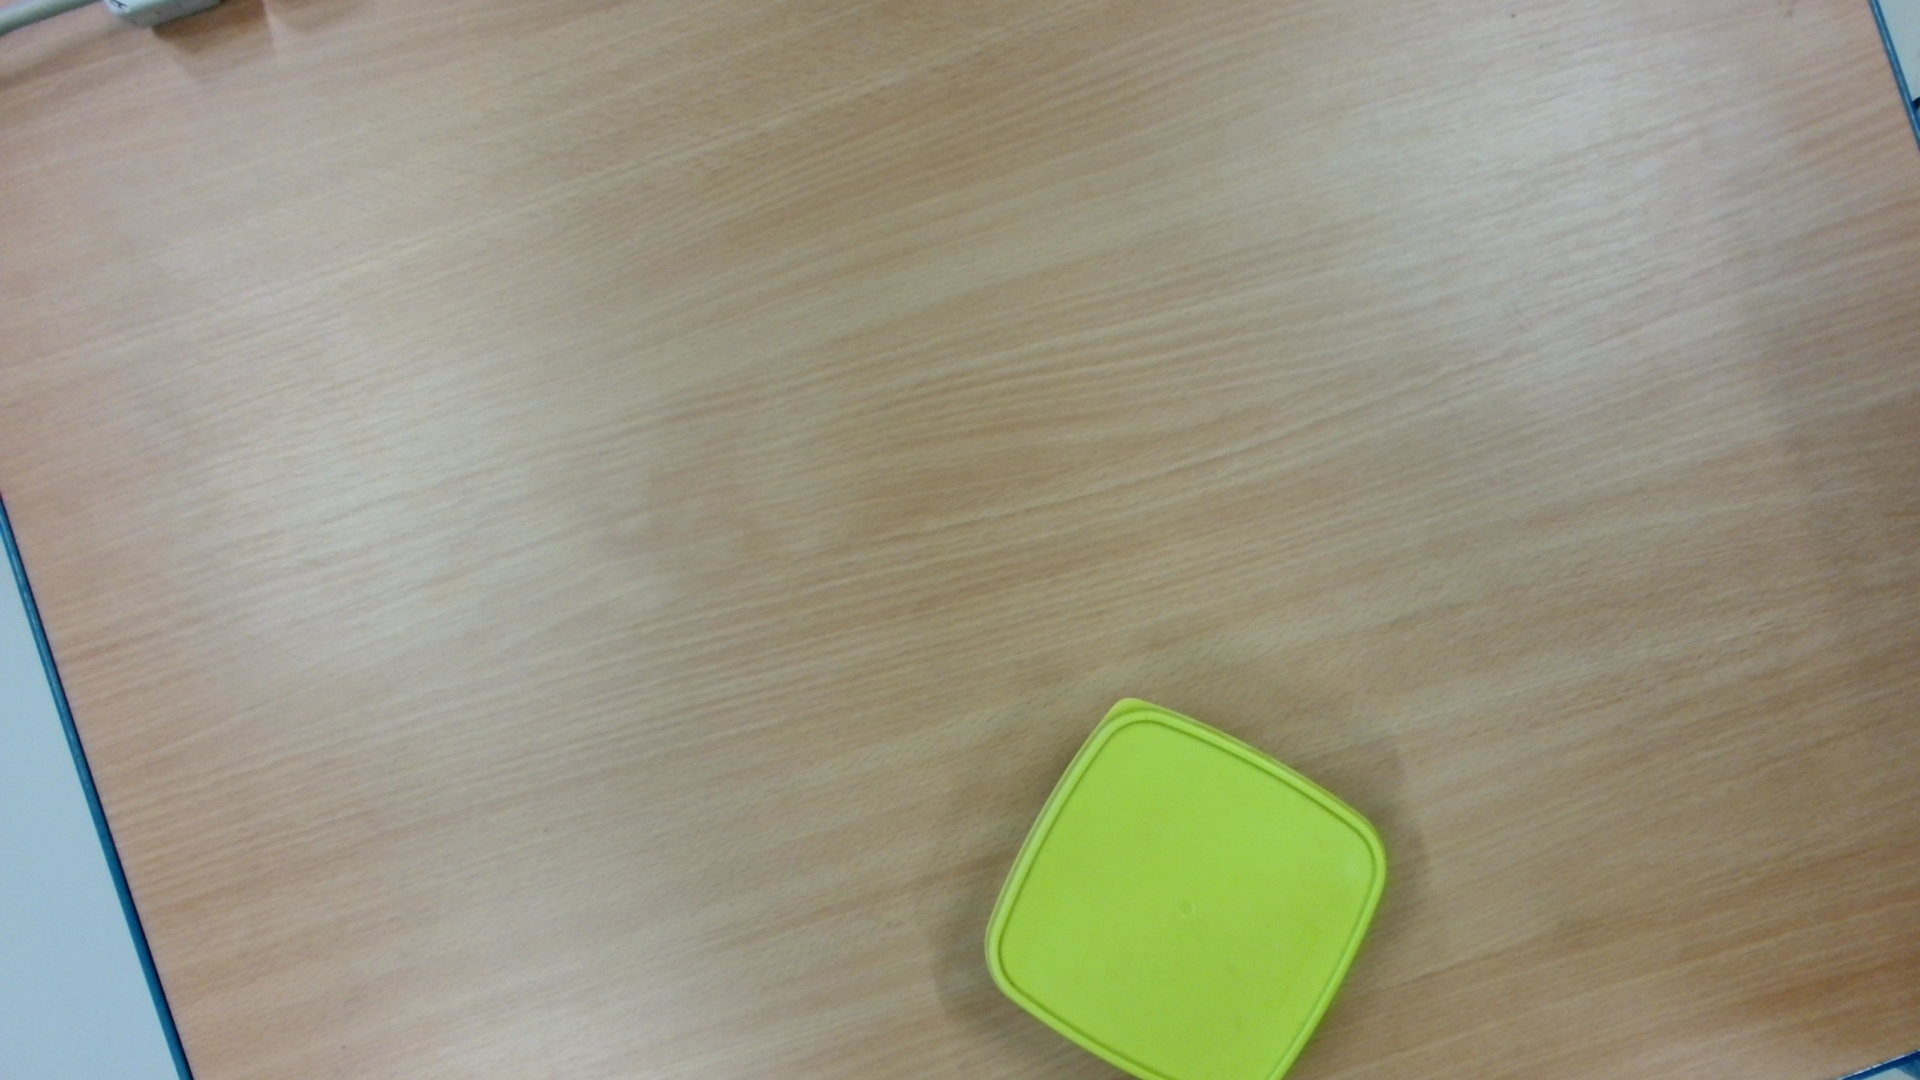Box: (972, 688, 1408, 1080)
